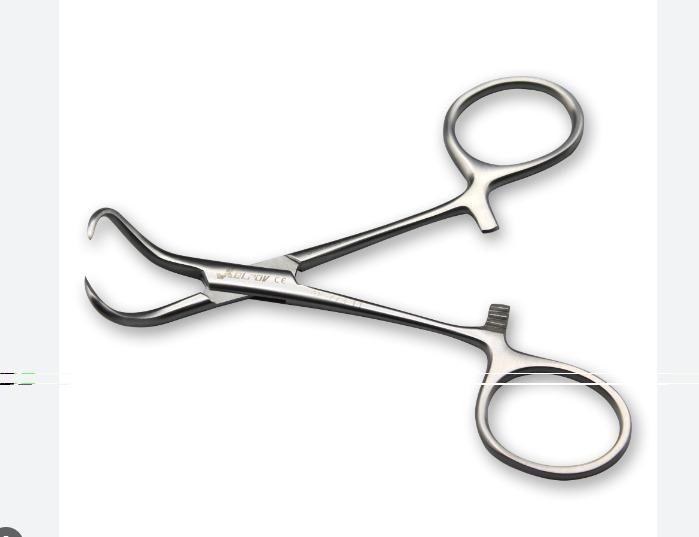Backhaus Towel Clamp: (76, 65, 640, 491)
